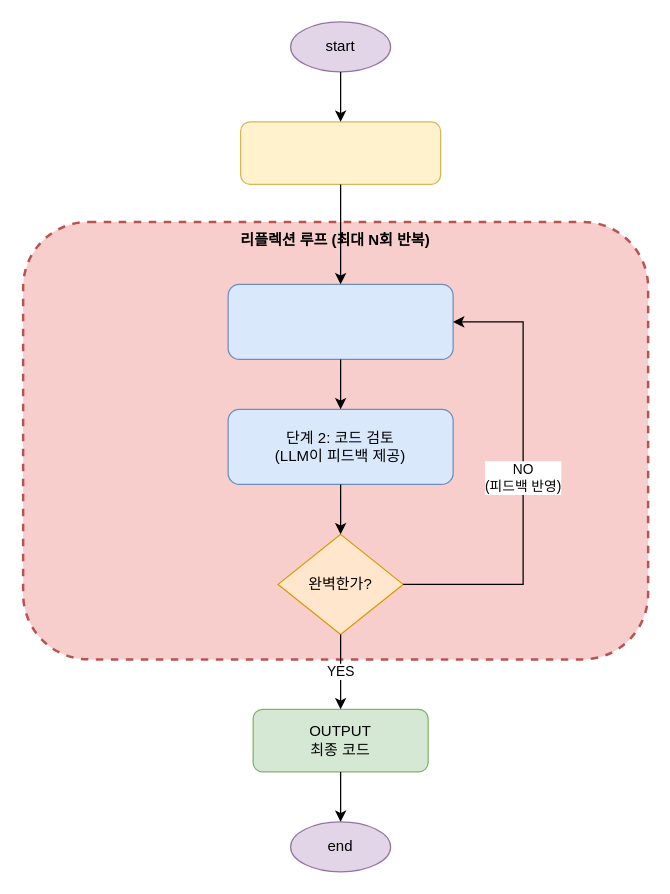
Some shapes in this 670 by 894 pixel diagram are drawn without their labels. The shapes that lost their labels are listed below. From the top down, each one's centre as x and y in pixels, then its label:
(340,152): 작업 요구사항 입력
(340,321): 단계 1: 코드 생성 (LLM이 코드 작성)
